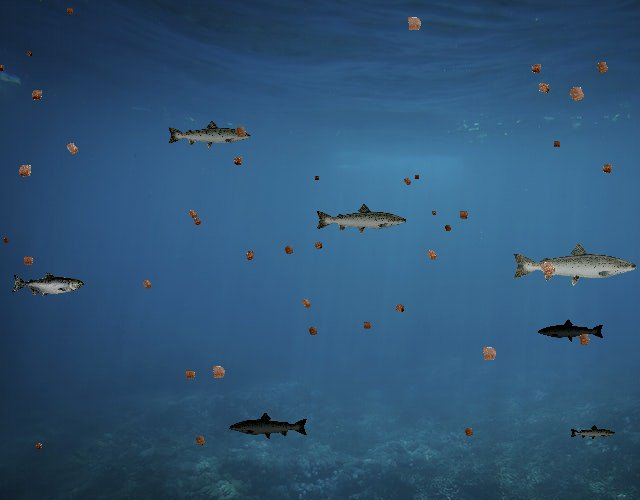Fish: (510, 241, 639, 287), (315, 203, 409, 237), (166, 119, 252, 150), (228, 411, 309, 441), (12, 271, 85, 298), (538, 319, 606, 343), (570, 425, 617, 442)
Pellet: (60, 136, 85, 161), (459, 423, 478, 442), (32, 439, 46, 453), (23, 47, 35, 59)
